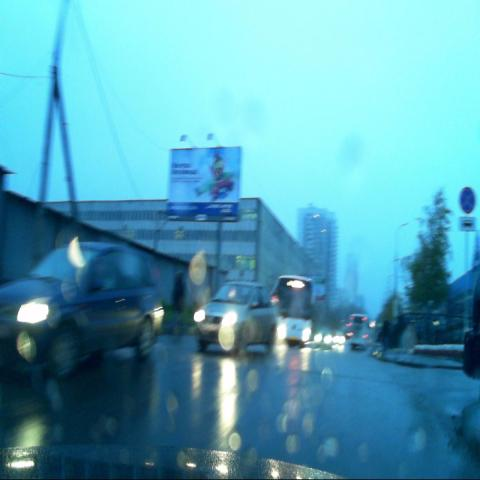8_4_4: (458, 218, 477, 231)
